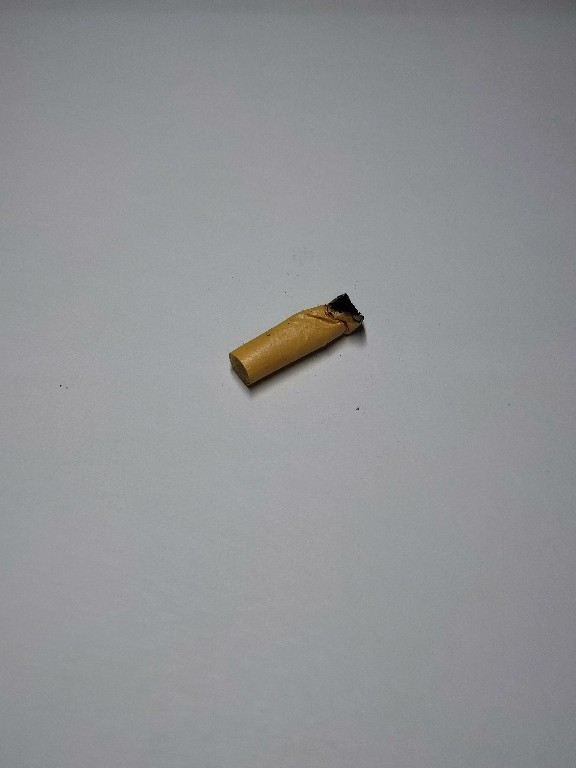cigarette: (222, 285, 370, 395)
